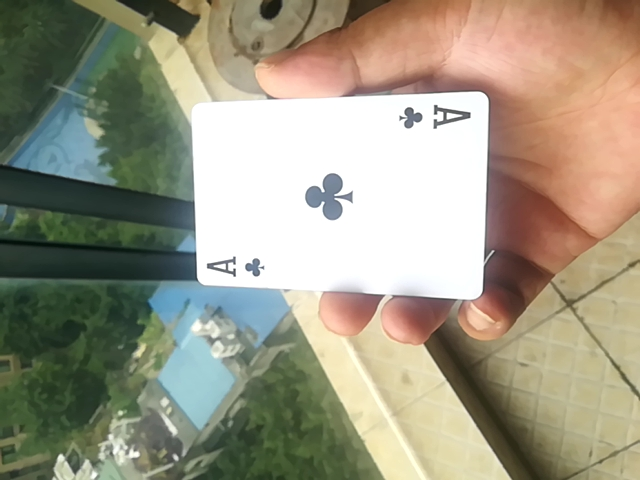mh a: (183, 89, 493, 304)
